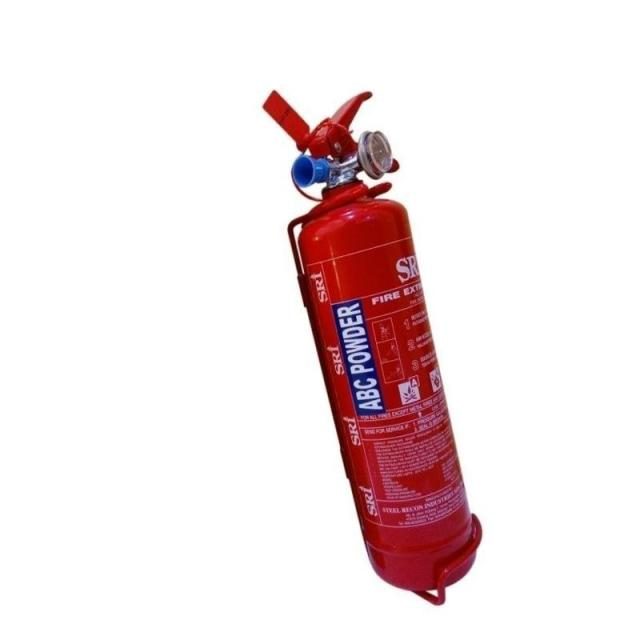fire_extinguisher: (257, 84, 482, 596)
